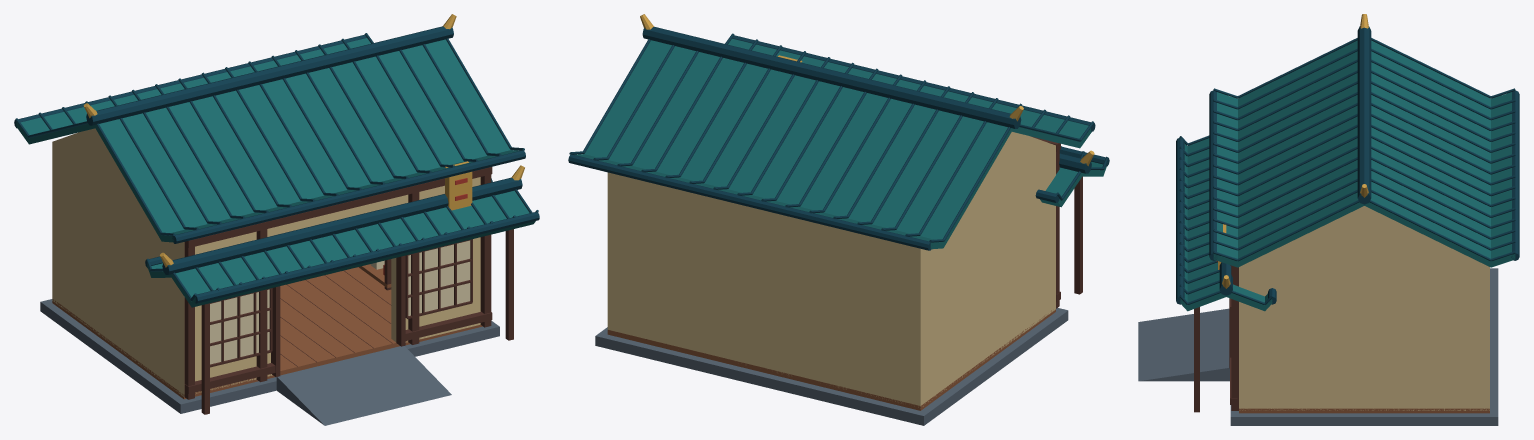
File: machiya_open.glb
3 renders of one model, left to right at view 1: azimuth 30°, elevation 25°; view 2: azimuth 150°, elevation 25°; view 3: azimuth 270°, elevation 25°, orthographic. The views are drawn at different scales.
Parts seen in each view (by area): view 1: CP_Roof, CP_Wall_Front, CP_Floor, CP_Wall_Left, CP_Wall_Back, CP_Interior; view 2: CP_Roof, CP_Wall_Back, CP_Wall_Left, CP_Floor, CP_Wall_Front, CP_Wall_Right; view 3: CP_Roof, CP_Wall_Right, CP_Floor, CP_Wall_Front, CP_Wall_Back.
Boxes of the visible parts, <box> form: CP_Roof: <box>14,14,539,307</box>; CP_Wall_Front: <box>178,161,513,414</box>; CP_Floor: <box>40,267,499,425</box>; CP_Wall_Left: <box>52,142,184,396</box>; CP_Wall_Back: <box>52,142,57,304</box>; CP_Interior: <box>358,259,391,290</box>; CP_Roof: <box>568,14,1109,250</box>; CP_Wall_Back: <box>607,172,925,408</box>; CP_Wall_Left: <box>911,146,1055,406</box>; CP_Floor: <box>595,308,1068,425</box>; CP_Wall_Front: <box>777,55,1082,308</box>; CP_Wall_Right: <box>607,173,616,331</box>; CP_Roof: <box>1176,14,1519,311</box>; CP_Wall_Right: <box>1239,259,1489,410</box>; CP_Floor: <box>1138,268,1498,425</box>; CP_Wall_Front: <box>1194,224,1248,412</box>; CP_Wall_Back: <box>1480,262,1489,410</box>.
Size of the model in its own units: 9.8 by 6.66 by 9.11.
